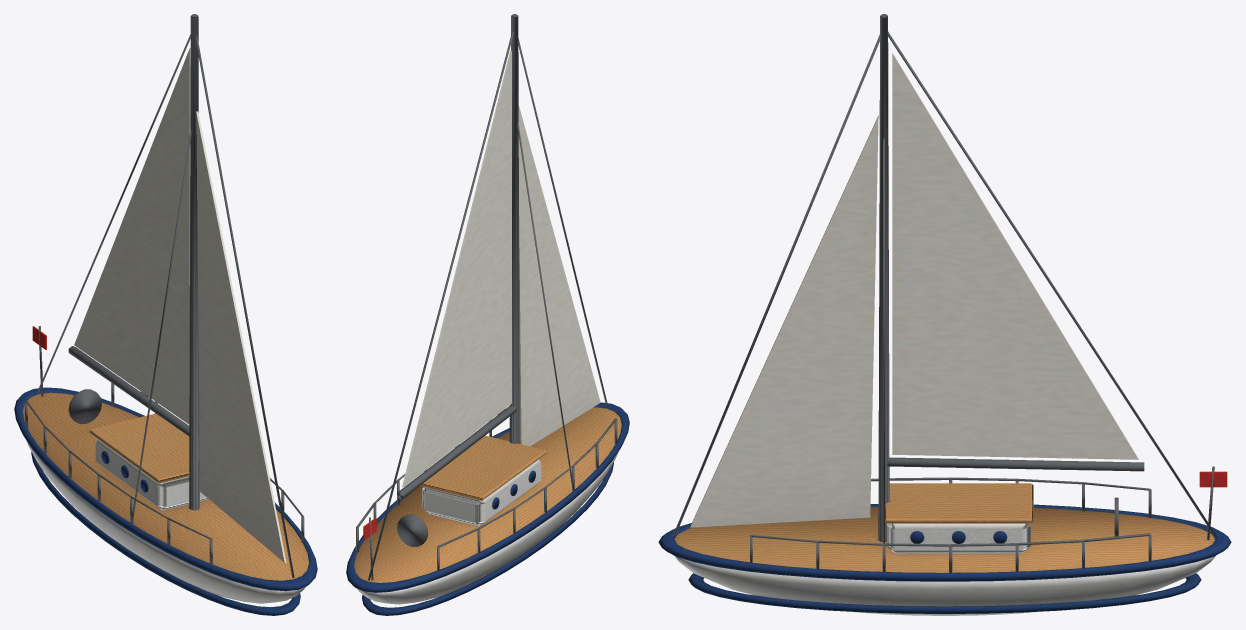
Rendered from sailboat.glb.
The picture shows the model from 3 angles, left to right: view 1: azimuth 30°, elevation 25°; view 2: azimuth 150°, elevation 25°; view 3: azimuth 270°, elevation 25°; orthographic projection. The views are drawn at different scales.
Visible parts, largest first — view 1: sailboat; view 2: sailboat; view 3: sailboat.
Boxes of the visible parts, left/top/right/bottom form: sailboat: left=14, top=14, right=317, bottom=615; sailboat: left=346, top=14, right=629, bottom=615; sailboat: left=658, top=14, right=1231, bottom=615.
Bounding box in the file's own units: 0.621 × 2.36 × 2.07.
Materials: 1 (1 with a texture image).
